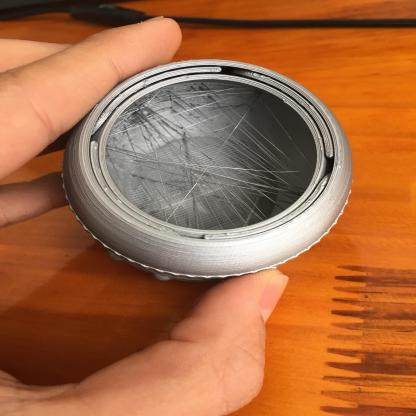fail: (117, 92, 300, 214)
